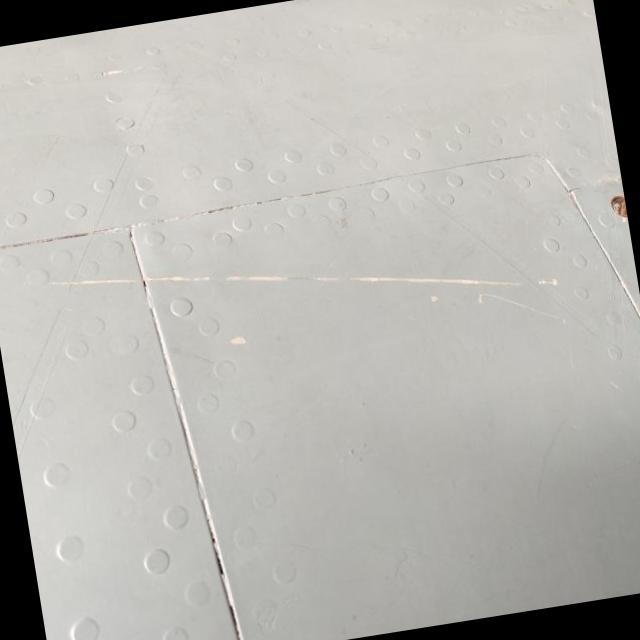Scratch: (160, 271, 507, 292)
